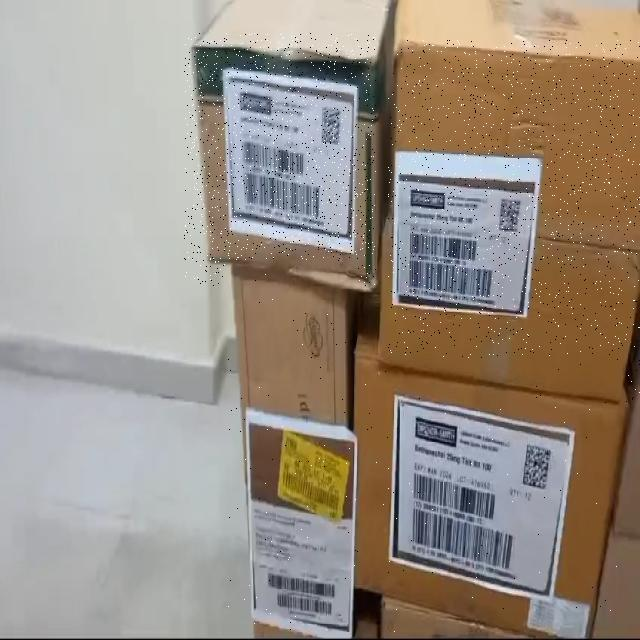BoxFace: (388, 40, 640, 403), (348, 358, 624, 640), (225, 260, 355, 640), (184, 33, 376, 286)
